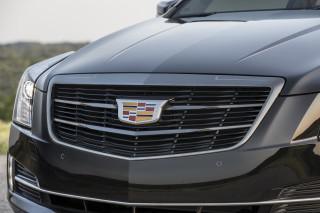cadillac: (110, 90, 177, 129)
